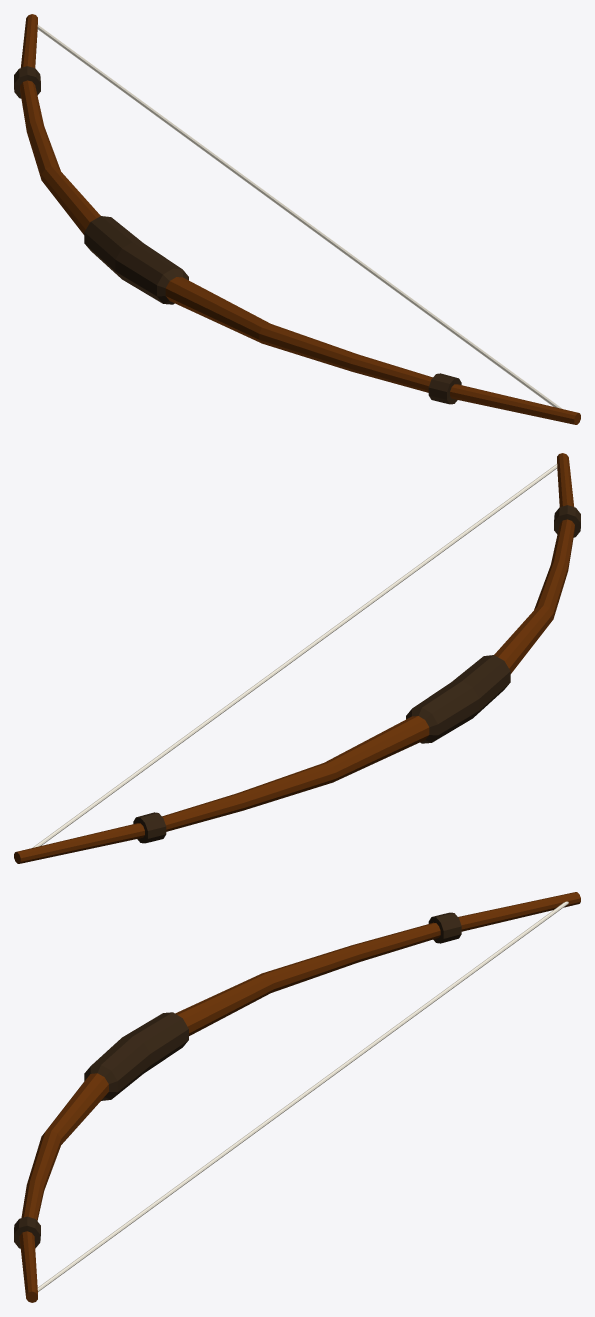
The model's file is Bow_02.fbx.
3 views of the same model, one above another, from view 1: azimuth 30°, elevation 25°; view 2: azimuth 150°, elevation 25°; view 3: azimuth 330°, elevation 25° (orthographic).
Parts seen in each view (by area): view 1: Bow_02; view 2: Bow_02; view 3: Bow_02.
Boxes of the visible parts, x1,y1,x2,y2 form: Bow_02: (14, 14, 580, 424); Bow_02: (14, 453, 580, 863); Bow_02: (14, 892, 580, 1302).
Bounding box in the file's own units: 28.01 × 5.29 × 137.
